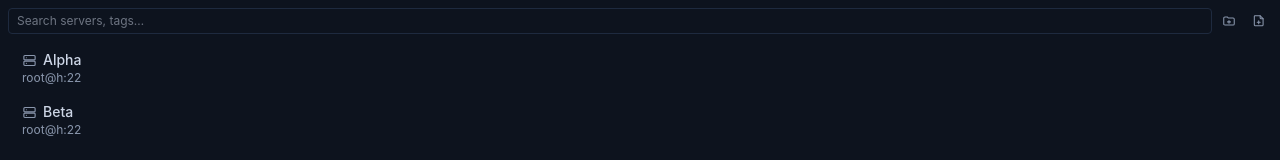
Scenario: ServerTree › filters by search query
This screenshot has width=1280, height=160.
Type "alpha" into the field with test id "server-search".
click(610, 21); type("alpha")  # box [8,8,1212,34]
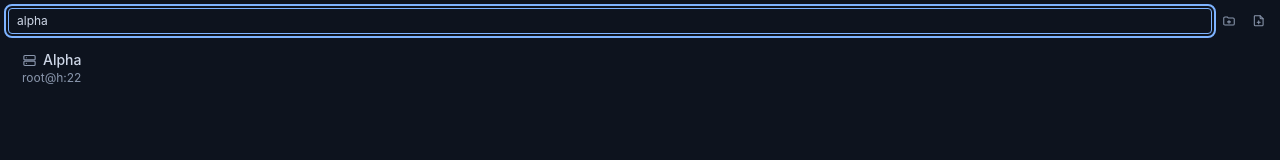
Expected: the number of buttons with test id "server-row" is 1, [22,51,82,85]
